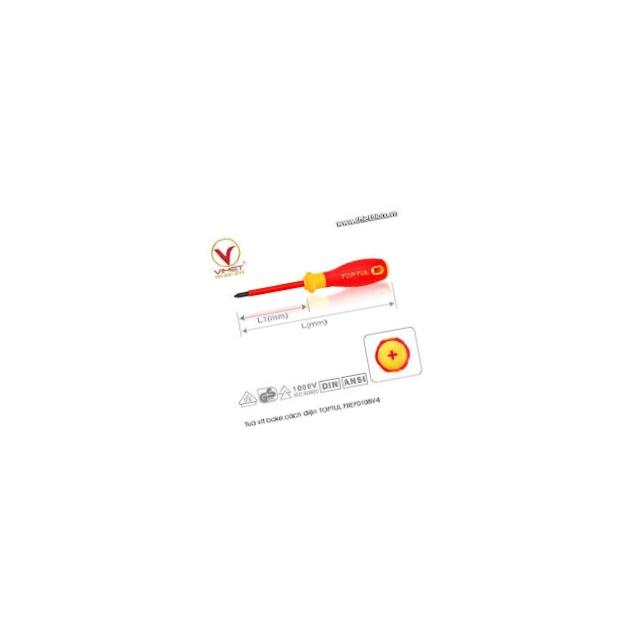screwdriver: (226, 252, 391, 312)
